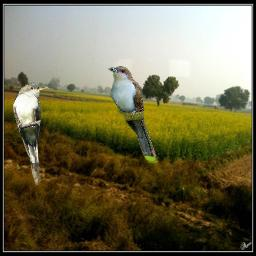Cuckoo: (108, 66, 158, 163), (13, 83, 46, 185)
